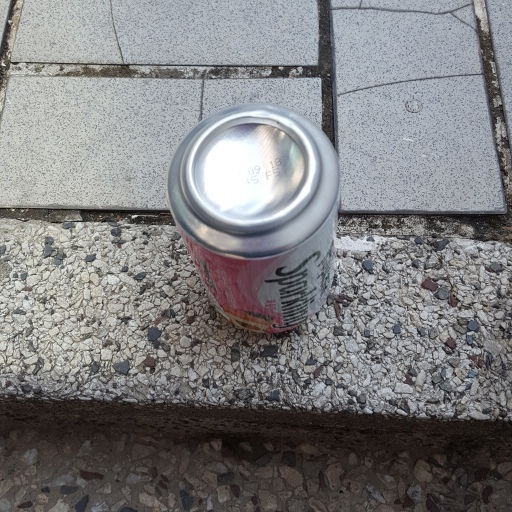Metal_0: (167, 106, 343, 335)
